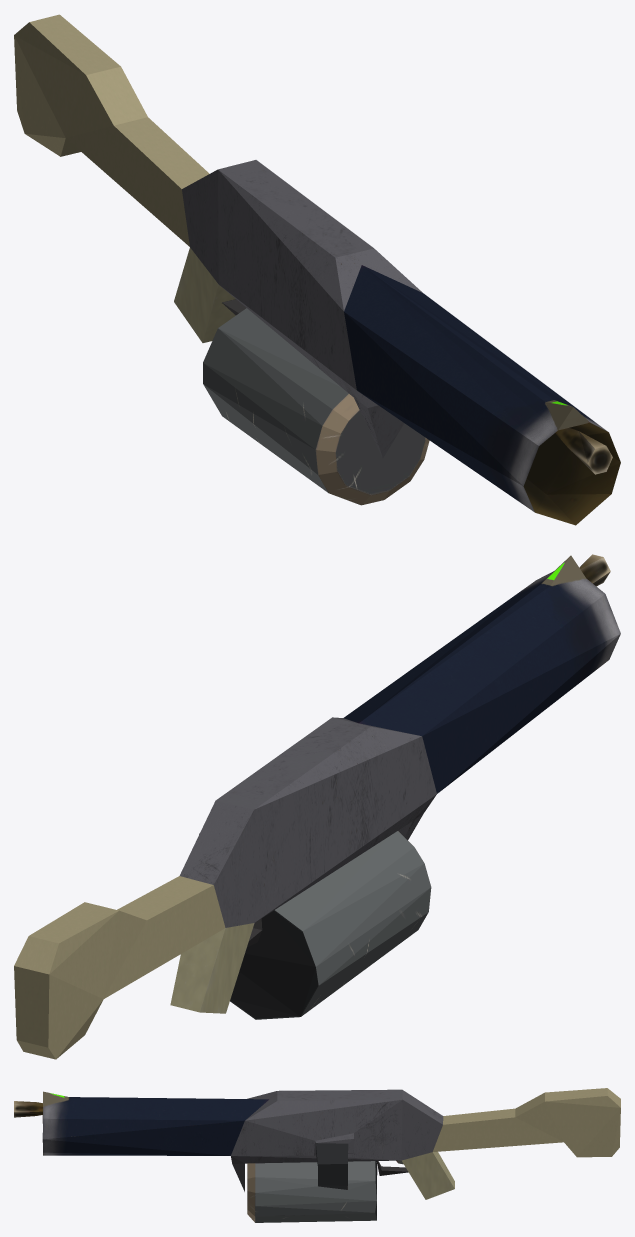
File: HA_funador_pesado.obj
3 views of the same model, one above another, from view 1: azimuth 30°, elevation 25°; view 2: azimuth 150°, elevation 25°; view 3: azimuth 270°, elevation 25° (orthographic). The views are drawn at different scales.
Parts seen in each view (by area): view 1: Cube.008; view 2: Cube.008; view 3: Cube.008.
Boxes of the visible parts, x1,y1,x2,y2 form: Cube.008: [14, 14, 620, 525]; Cube.008: [14, 554, 620, 1059]; Cube.008: [14, 1088, 620, 1222].
Bounding box in the file's own units: 0.6148 × 0.9641 × 4.13.
5 materials, 5 textured.
